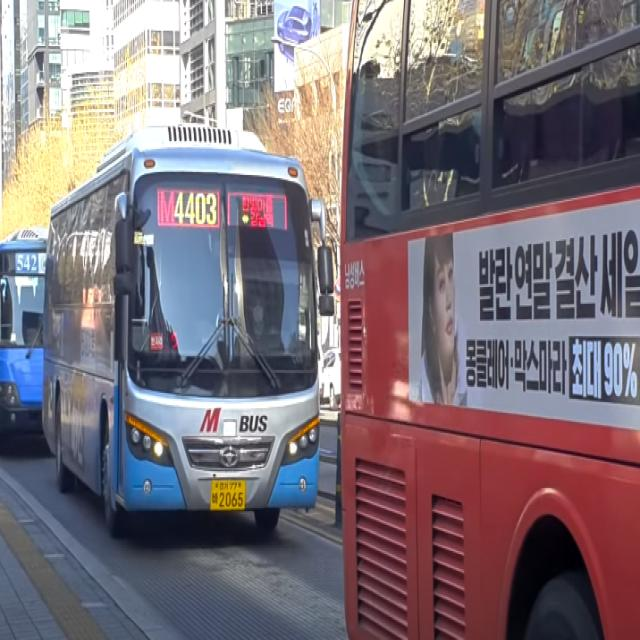bus-number: (173, 191, 218, 225), (16, 254, 38, 272)
